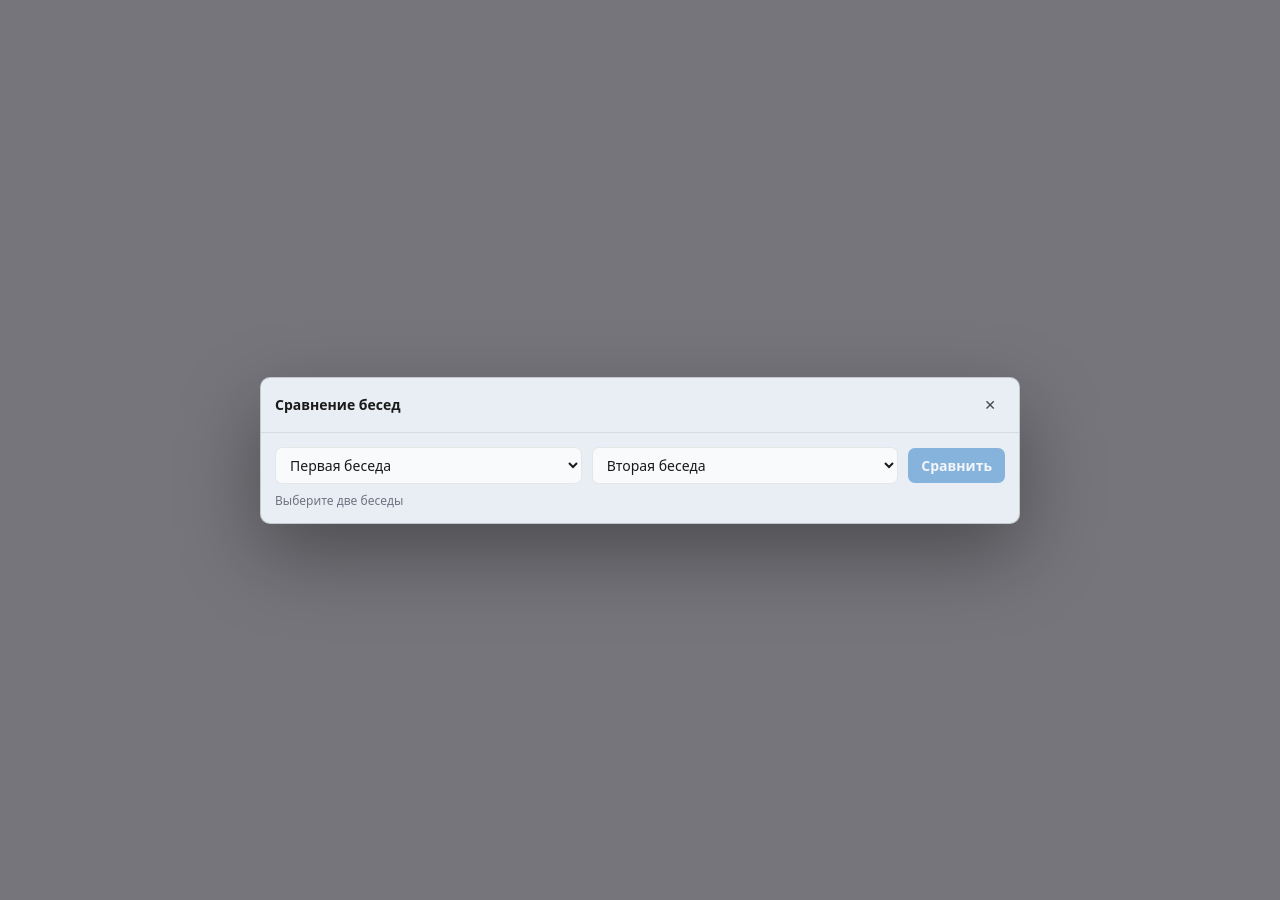
Test: the comparison of two conversations › says so when the comparison fails
The width and height of the screenshot is (1280, 900).
Select "Первый раз" in the 1st dropdown: point(428, 465) [275, 446, 582, 484]
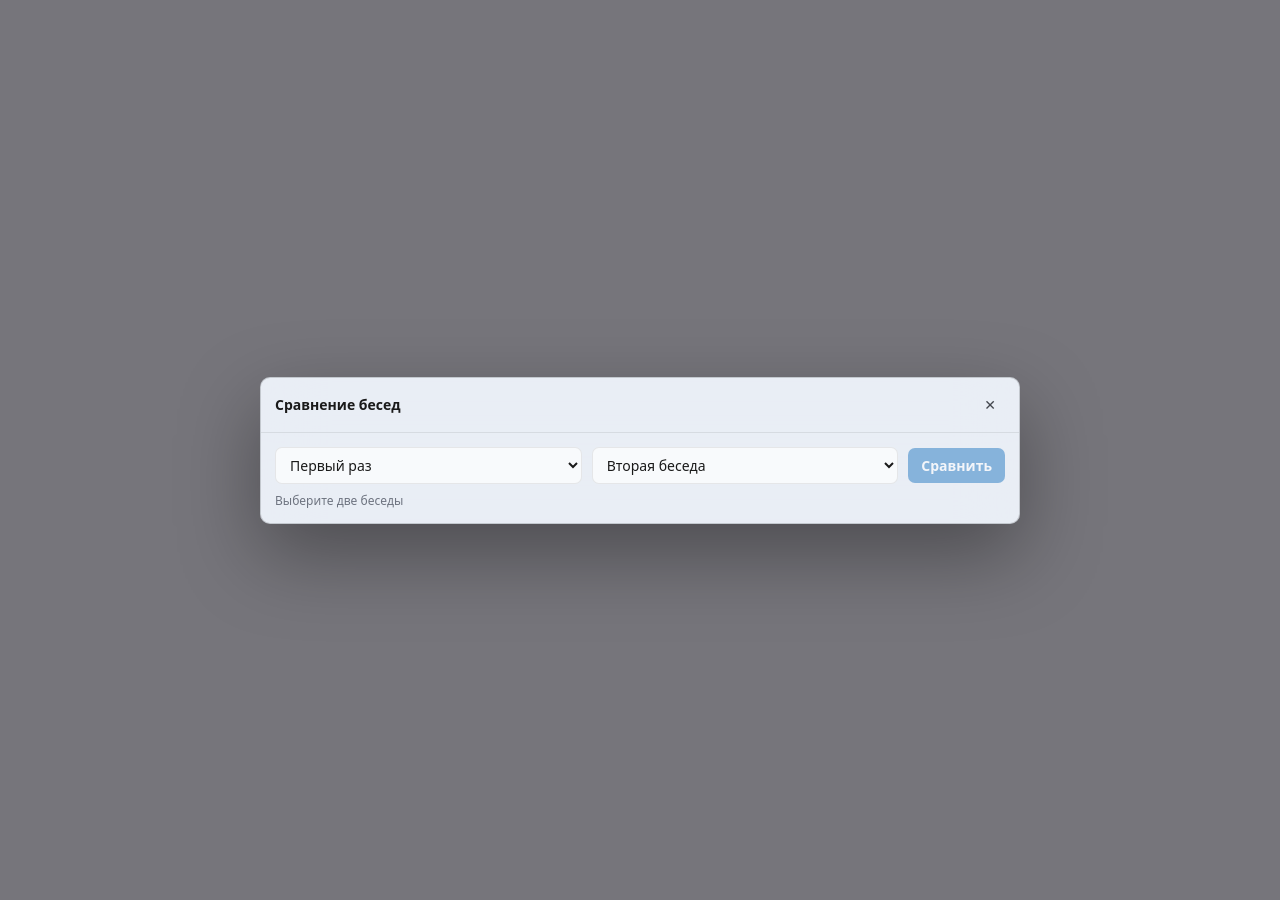
Select "Второй раз" in the 2nd dropdown: point(745, 465) [592, 446, 898, 484]
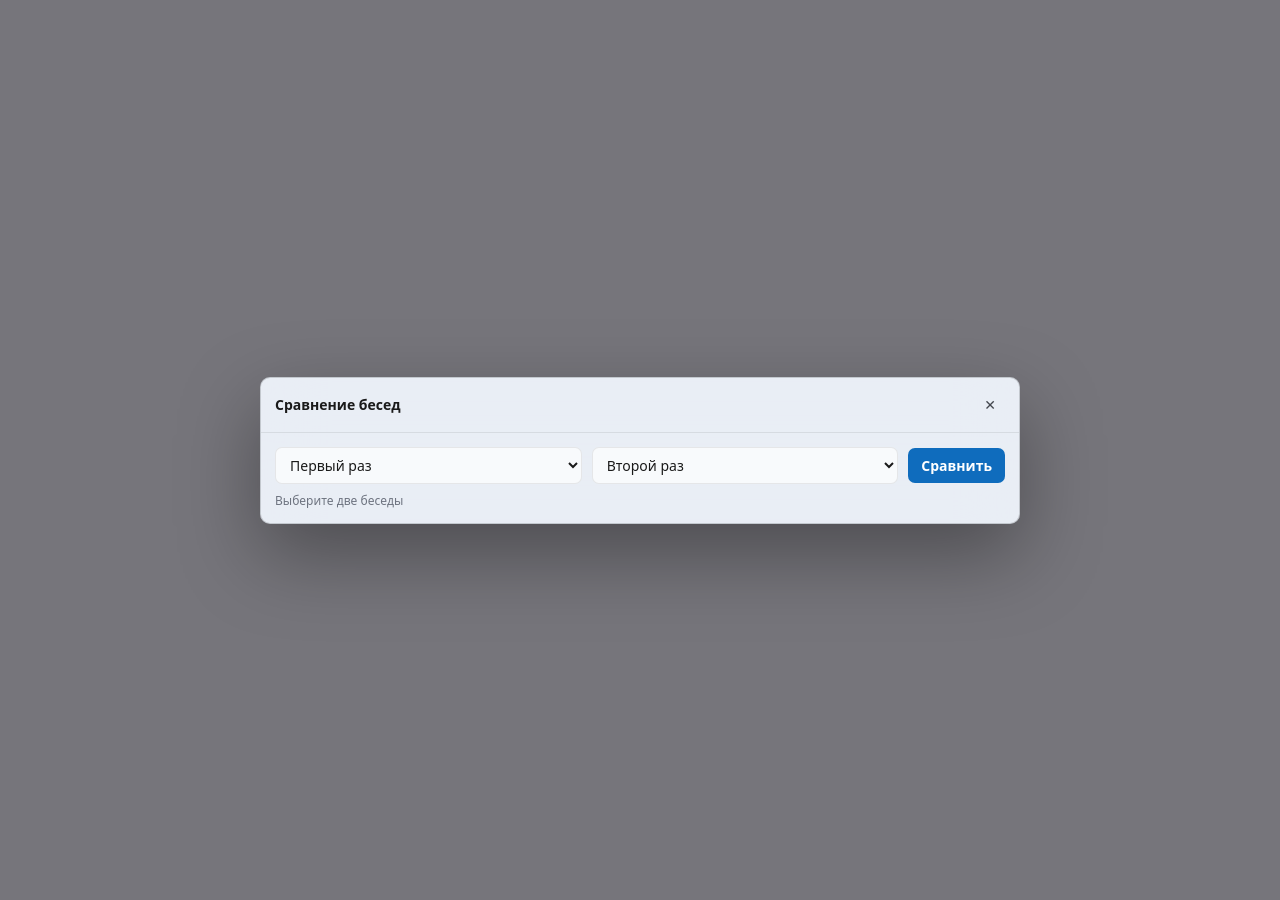
Click the button "Сравнить": point(957, 465) [908, 448, 1005, 482]
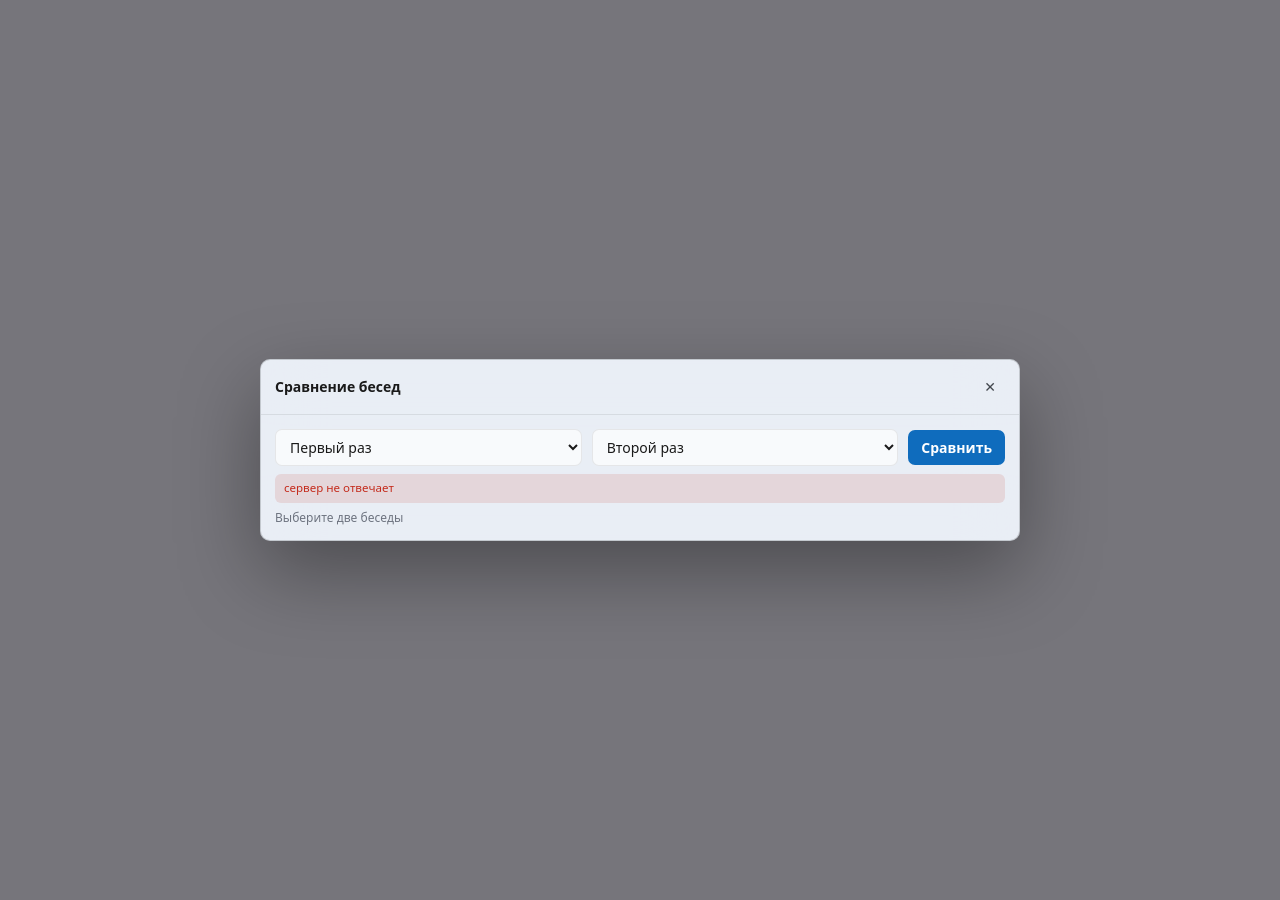
Expected: the text "сервер не отвечает" is shown, [275, 474, 1005, 503]
